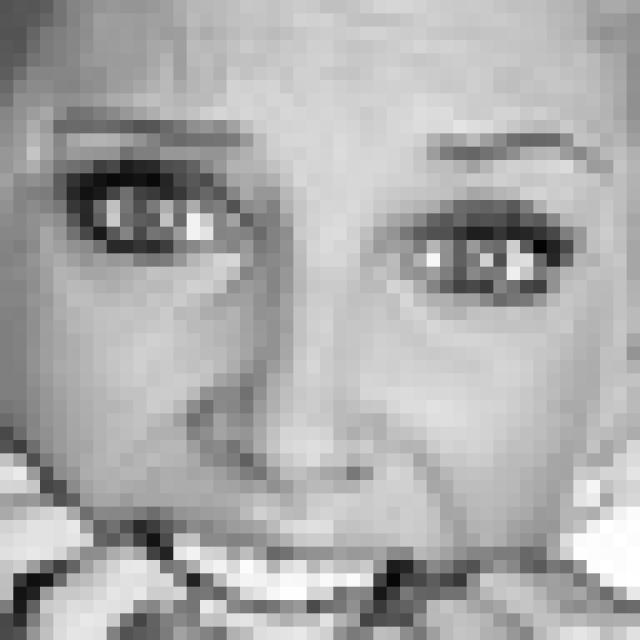fear: (46, 105, 607, 640)
